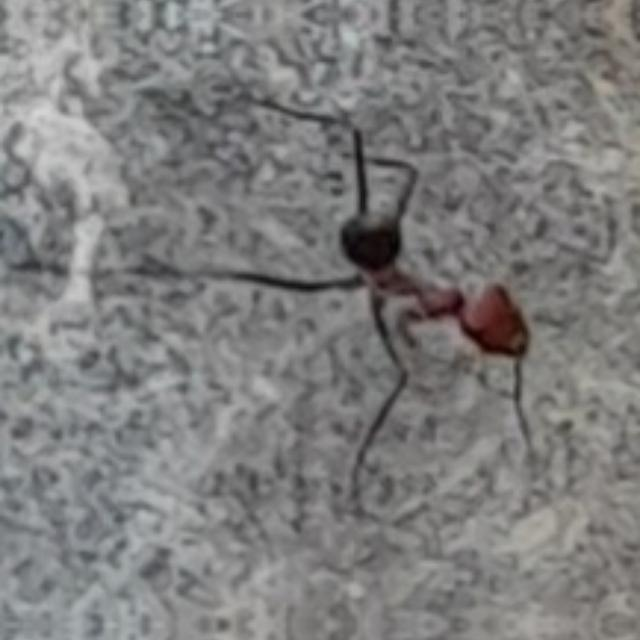Cataglyphis: (290, 175, 558, 399)
